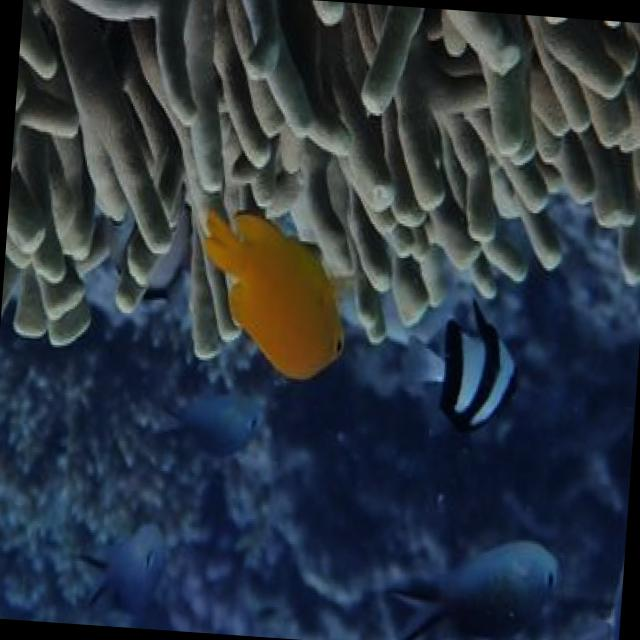ThreeStripedDamselfish: (404, 299, 514, 429)
